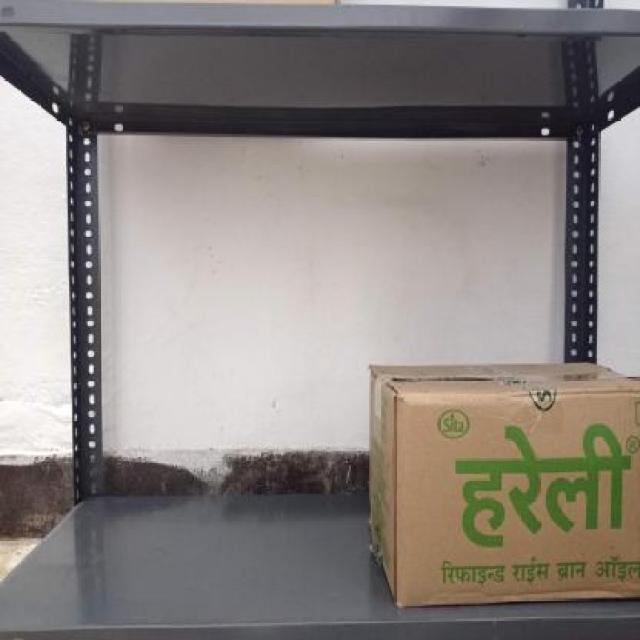box: (392, 392, 640, 597)
